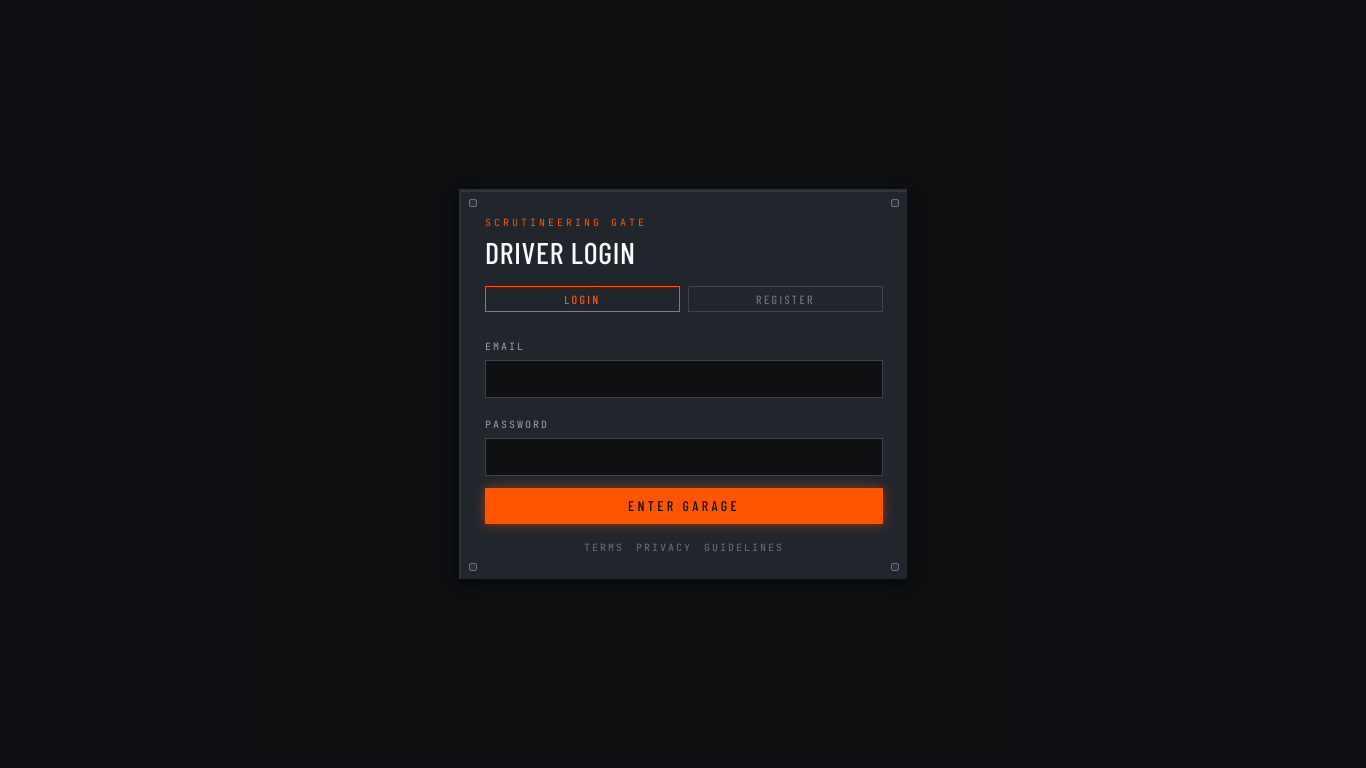
it: AuthModal › requires the age attestation checkbox on register and never offers forgot-password
Click the button "Register": (786, 299) [688,286,883,312]
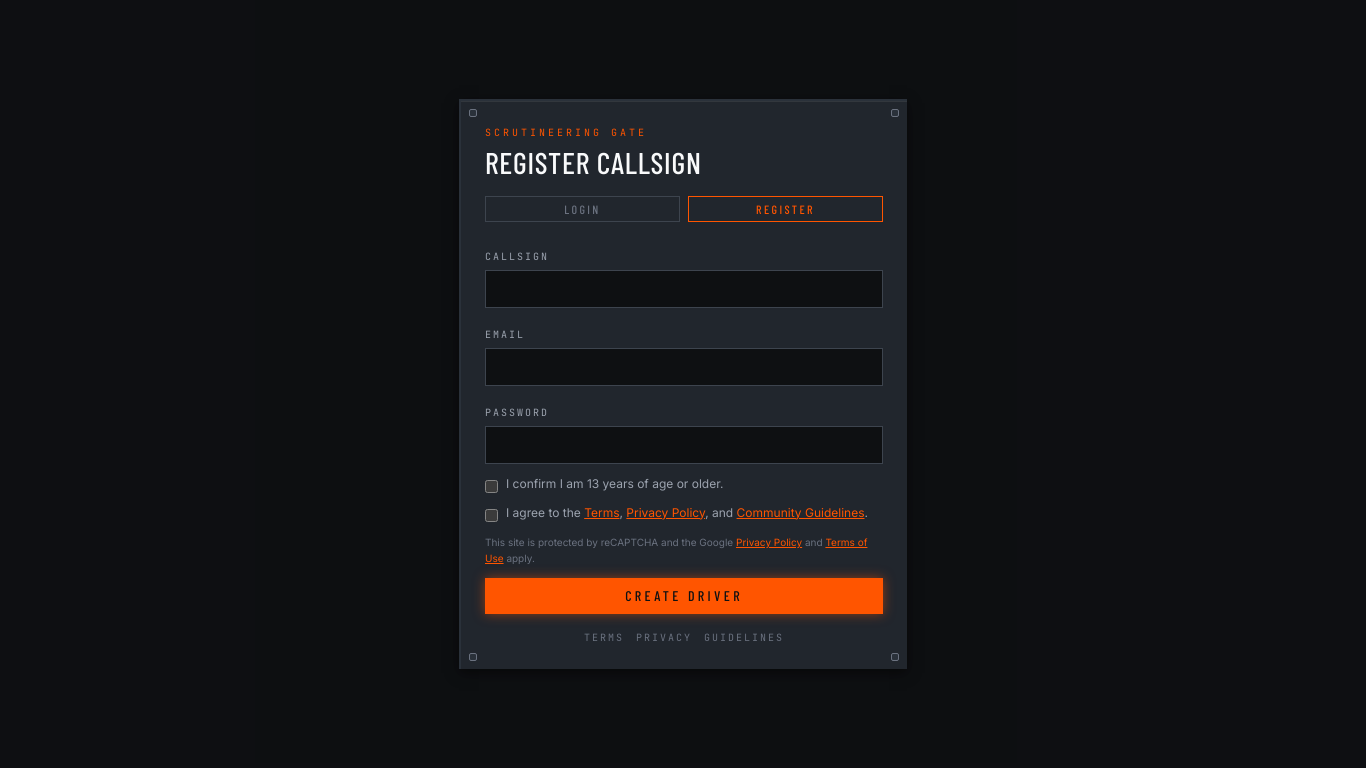
expect the text "I confirm I am 13 years of age or older." is shown: met, box [506,476,723,492]
In the field labelled "Callsign": (684, 289) [485,270,883,308], type "TrailBoss"
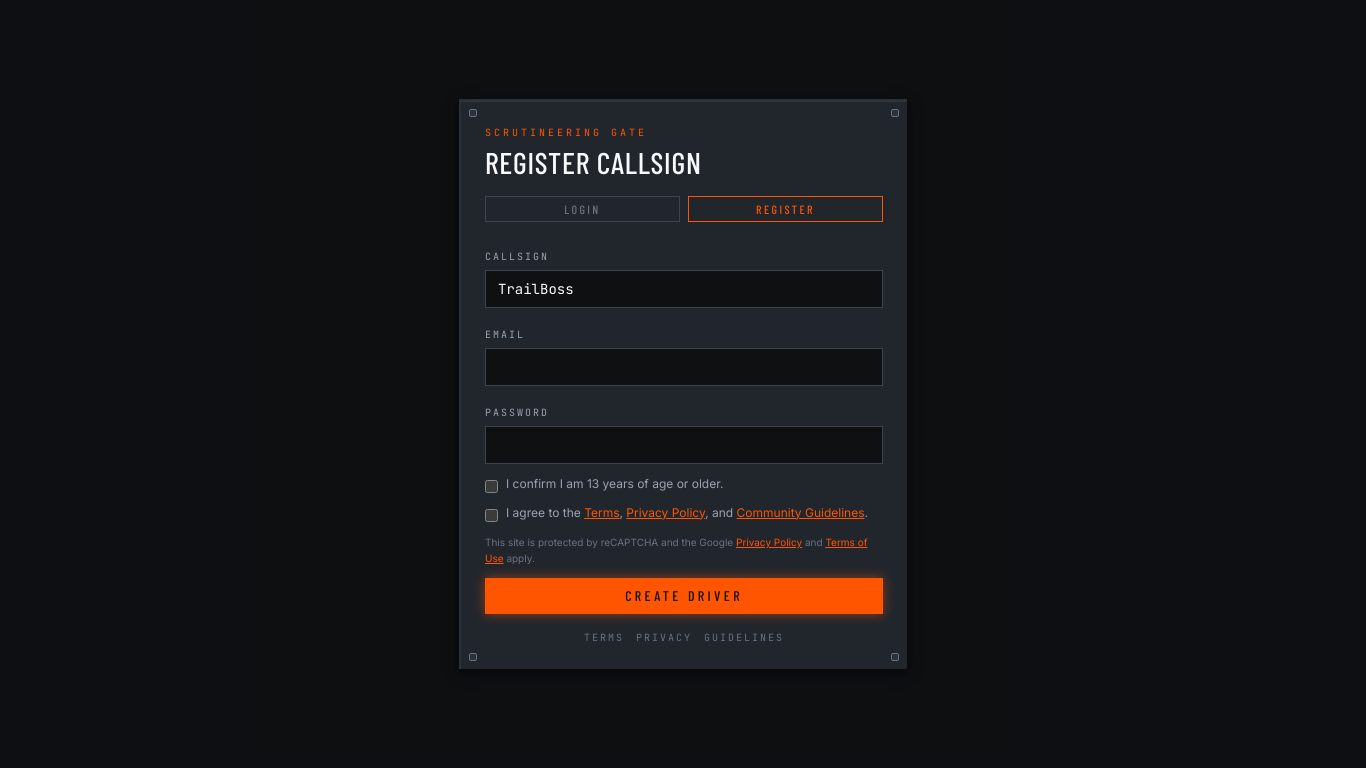
In the field labelled "Email": (684, 367) [485,348,883,386], type "trailboss@example.com"
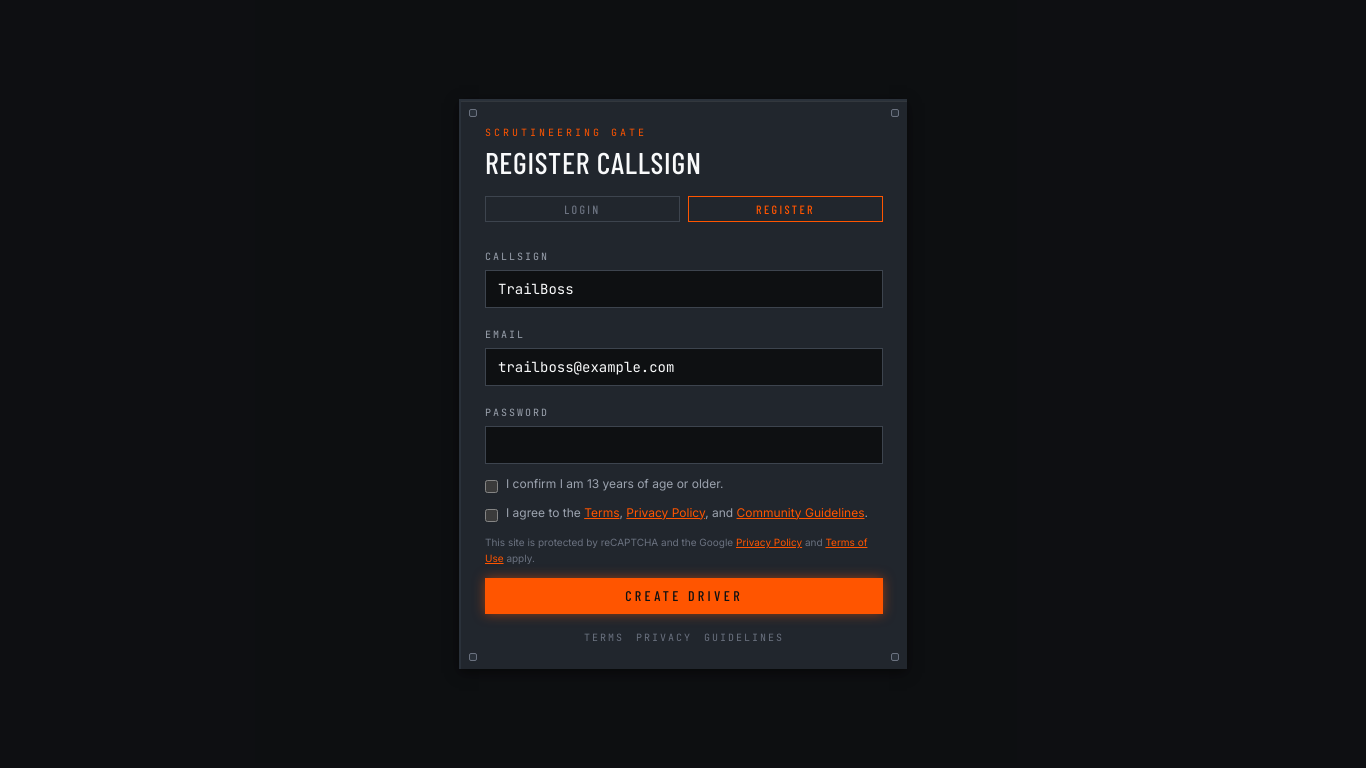
In the password field labelled "Password": (684, 445) [485,426,883,464], type "password123"
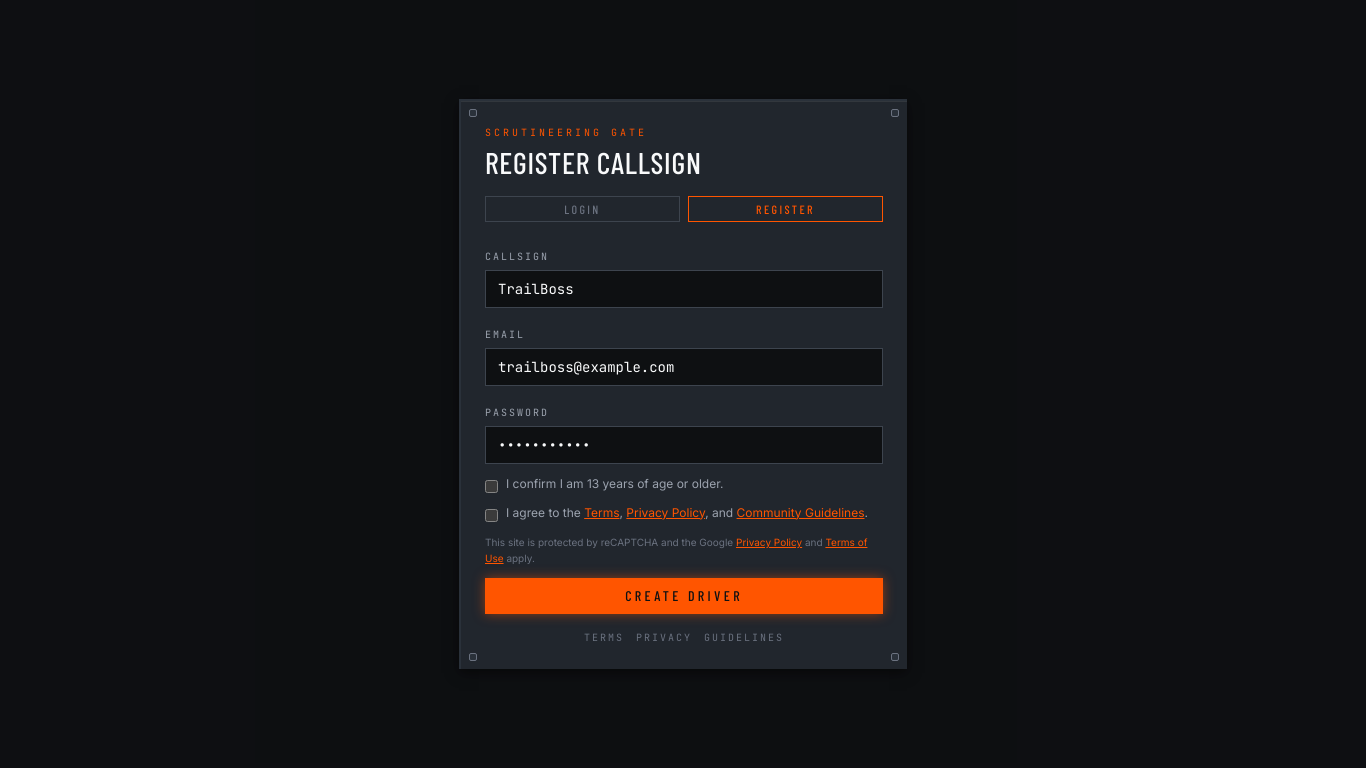
Click the button "Create Driver": (684, 596) [485,578,883,614]
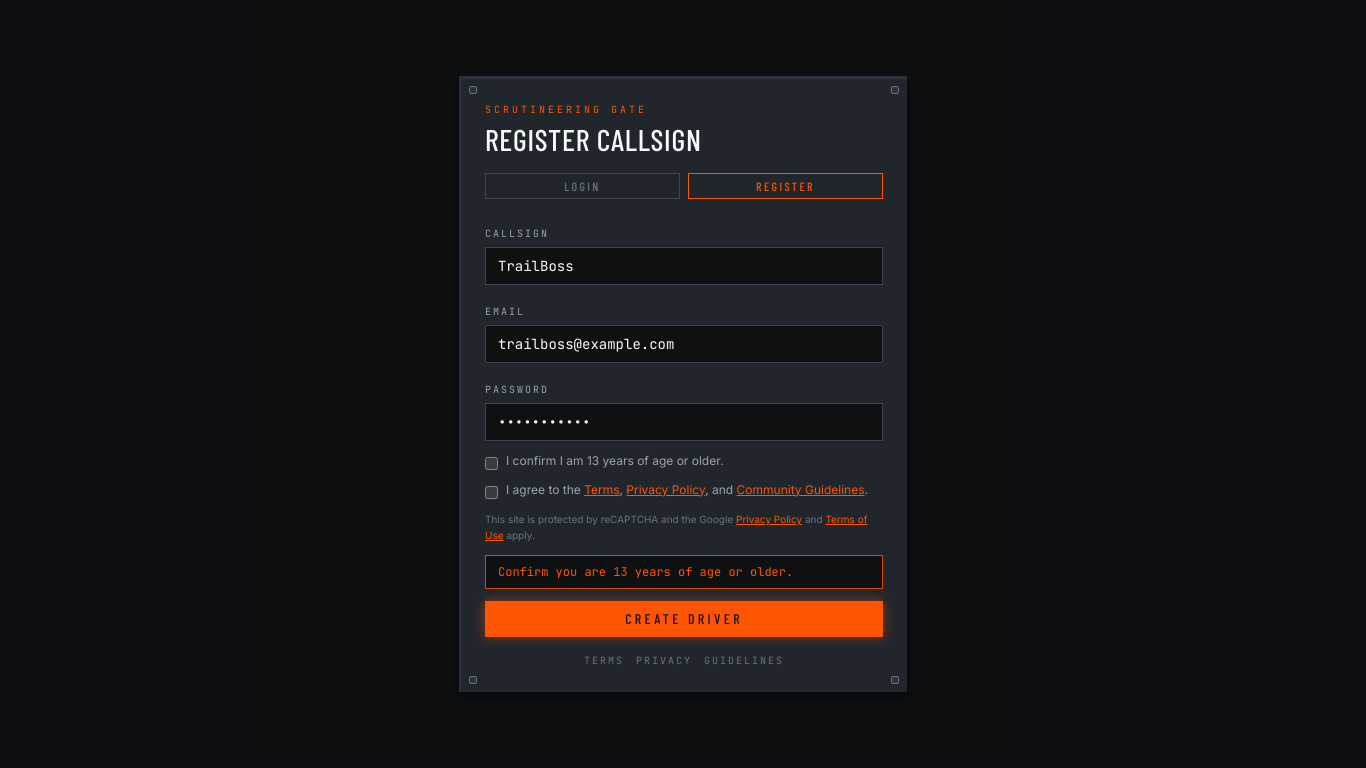
expect the text "I agree to the" is shown: met, box [506,482,581,497]
expect the link "Terms" next to "I agree to the" is shown: met, box [584,482,620,497]
expect the text "Confirm you are 13 years of age or older." is shown: met, box [485,555,883,589]
